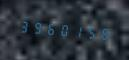eight: (95, 22, 107, 43)
five: (82, 21, 94, 42)
nine: (30, 17, 42, 38)
one: (69, 20, 81, 41)
six: (43, 18, 55, 39)
three: (17, 15, 29, 36)
zero: (56, 19, 68, 40)
